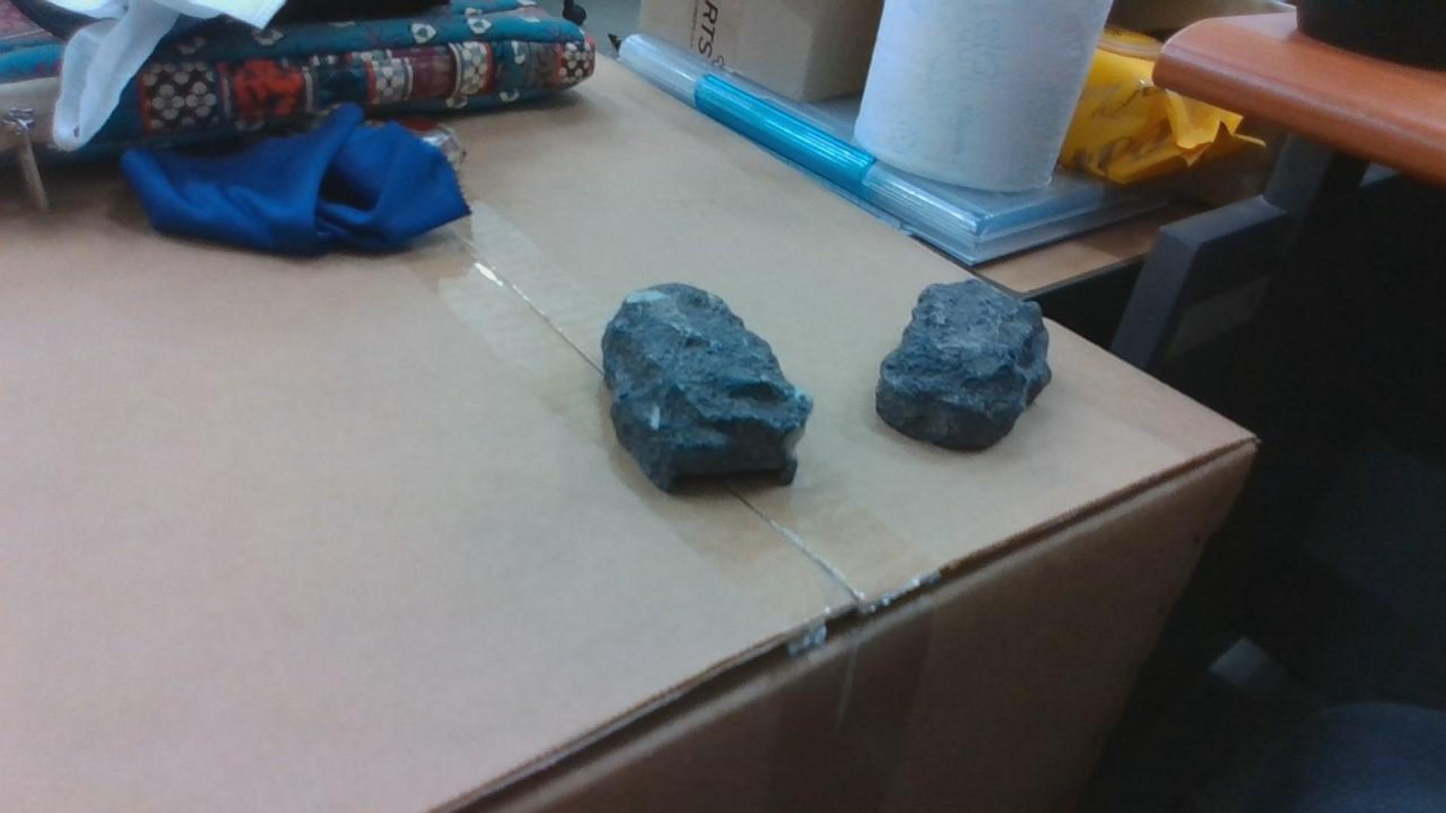rock: (601, 283, 811, 489), (876, 280, 1051, 448)
